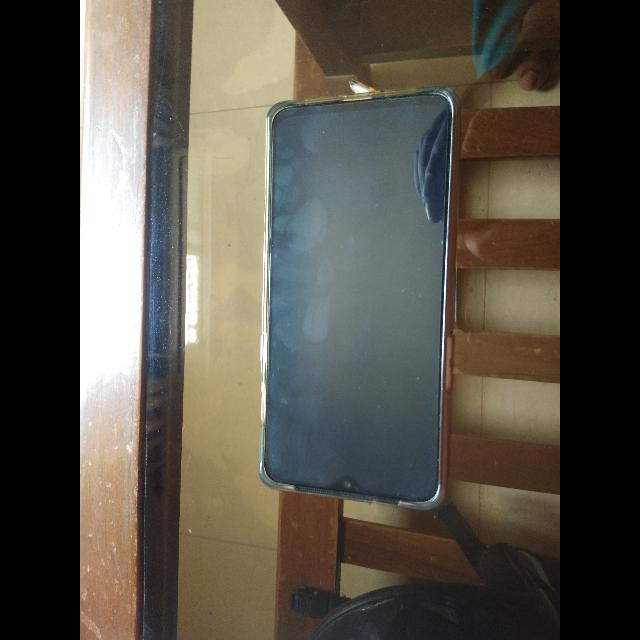Smartphone: (247, 74, 471, 522)
